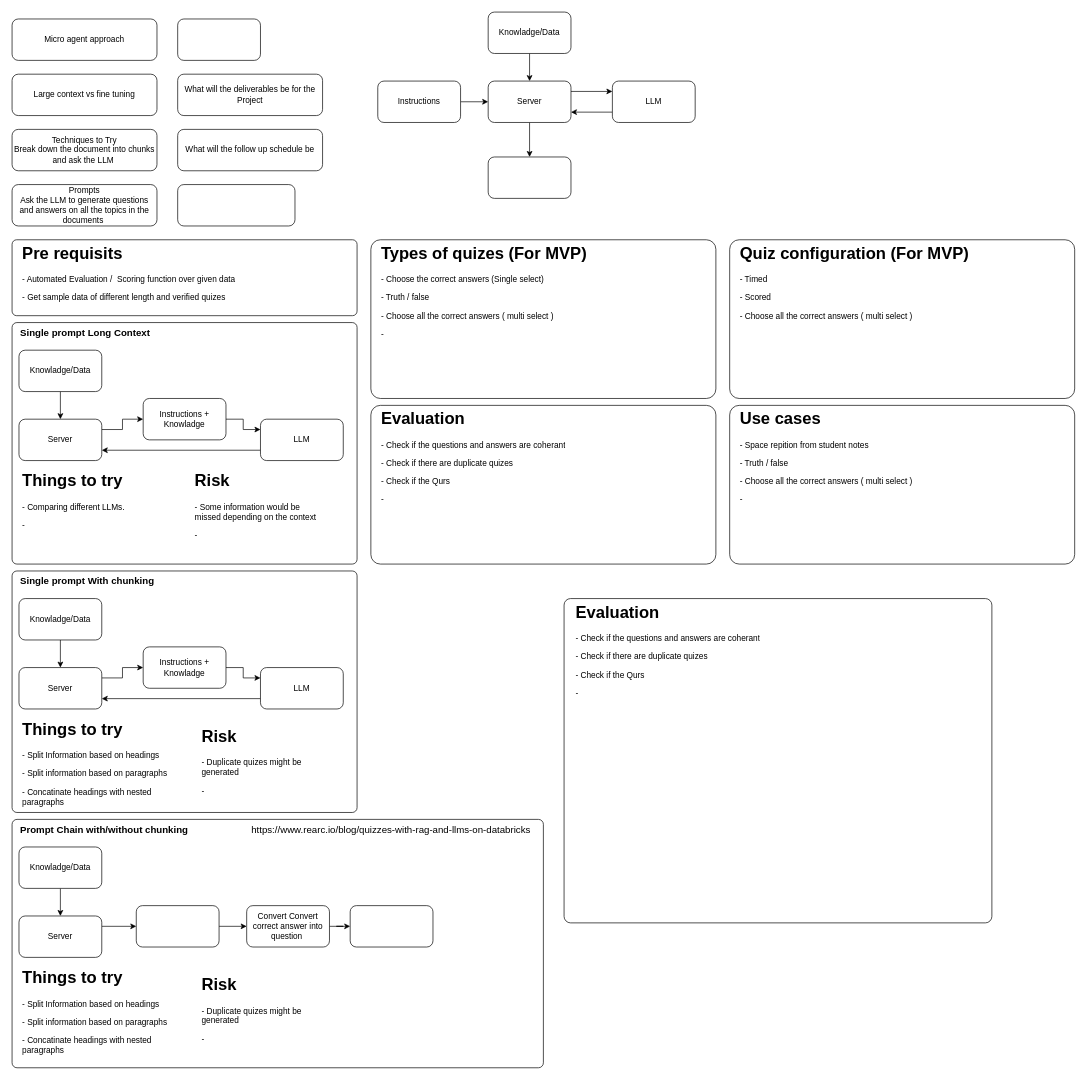
This 1087x1080 diagram has some shape labels left out. The shapes that lost their labels are listed below. From the top down, each one's centre as x and y in pixels, then its label:
point (218, 39): Quiz Evaluation
point (529, 177): Set of quize
point (236, 205): Techonology selection
point (177, 926): Get only correct answers as sentetences
point (391, 926): Generate incorrect responces
